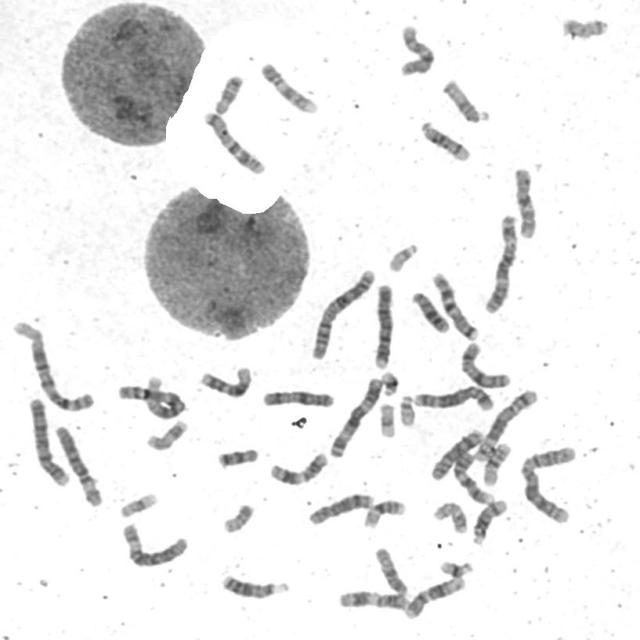A1: (8, 316, 96, 413), (113, 377, 186, 420)
A2: (306, 264, 378, 362), (516, 441, 580, 525)
A3: (326, 374, 385, 459), (480, 210, 520, 315)
B4: (24, 393, 70, 488), (369, 279, 396, 370)
B5: (470, 384, 539, 464), (410, 382, 496, 412)
C10: (395, 21, 437, 78), (509, 162, 539, 240)
C11: (266, 449, 330, 487), (334, 586, 410, 612)
C12: (400, 572, 467, 620), (195, 362, 254, 399)
C6: (50, 420, 104, 508), (118, 519, 190, 569)
C7: (199, 106, 267, 176), (427, 268, 481, 341)
C8: (427, 424, 486, 482), (304, 488, 376, 527)
C9: (256, 58, 320, 115), (449, 448, 497, 506)
D13: (217, 570, 291, 600), (408, 286, 452, 334)
D14: (415, 116, 472, 162), (468, 495, 508, 546)
D15: (439, 75, 492, 125), (370, 543, 409, 597)
E16: (479, 438, 513, 487), (359, 496, 407, 530)
E17: (143, 416, 190, 452), (430, 497, 470, 535)
E18: (210, 70, 244, 116), (214, 444, 259, 469)
F19: (115, 488, 159, 520), (375, 399, 398, 439)
F20: (557, 12, 611, 41), (218, 500, 256, 534)
G21: (436, 556, 474, 578), (377, 368, 400, 397)
G22: (384, 239, 420, 273), (395, 391, 417, 428)
X: (457, 338, 513, 389), (259, 386, 336, 409)
